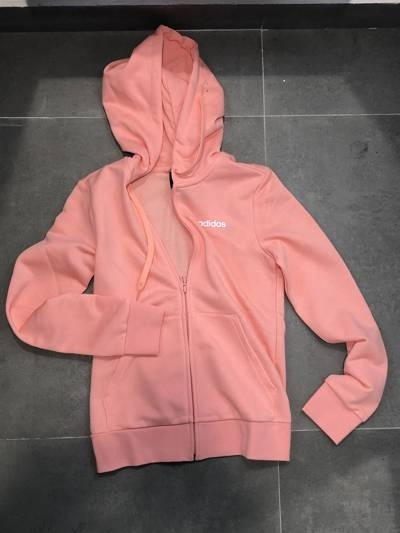Hoodie: (25, 21, 392, 497)
